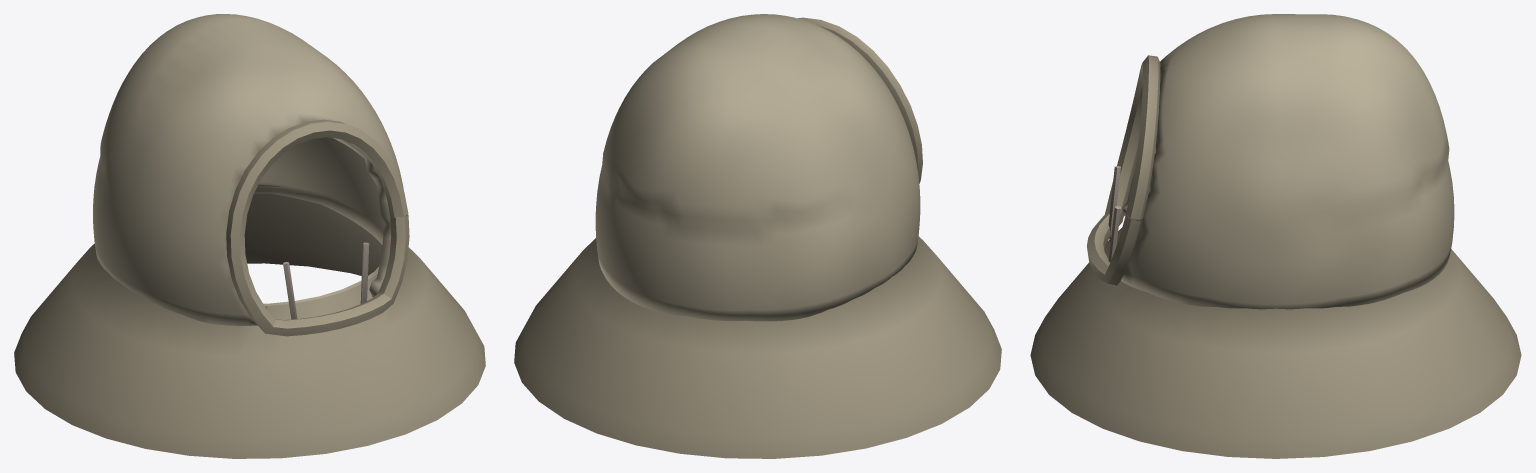
Rendered from woven-hood.glb.
3 views of the same model, side by side, from view 1: azimuth 30°, elevation 25°; view 2: azimuth 150°, elevation 25°; view 3: azimuth 270°, elevation 25° (orthographic). The views are drawn at different scales.
Visible parts, largest first — view 1: Body_lod0; view 2: Body_lod0; view 3: Body_lod0.
Part boxes in pixels (left/top/right/bottom): Body_lod0: left=14, top=14, right=485, bottom=458; Body_lod0: left=514, top=14, right=1001, bottom=458; Body_lod0: left=1030, top=14, right=1521, bottom=458.
Size of what is drawn, in the model's own units: 0.3578 by 0.265 by 0.3578.
